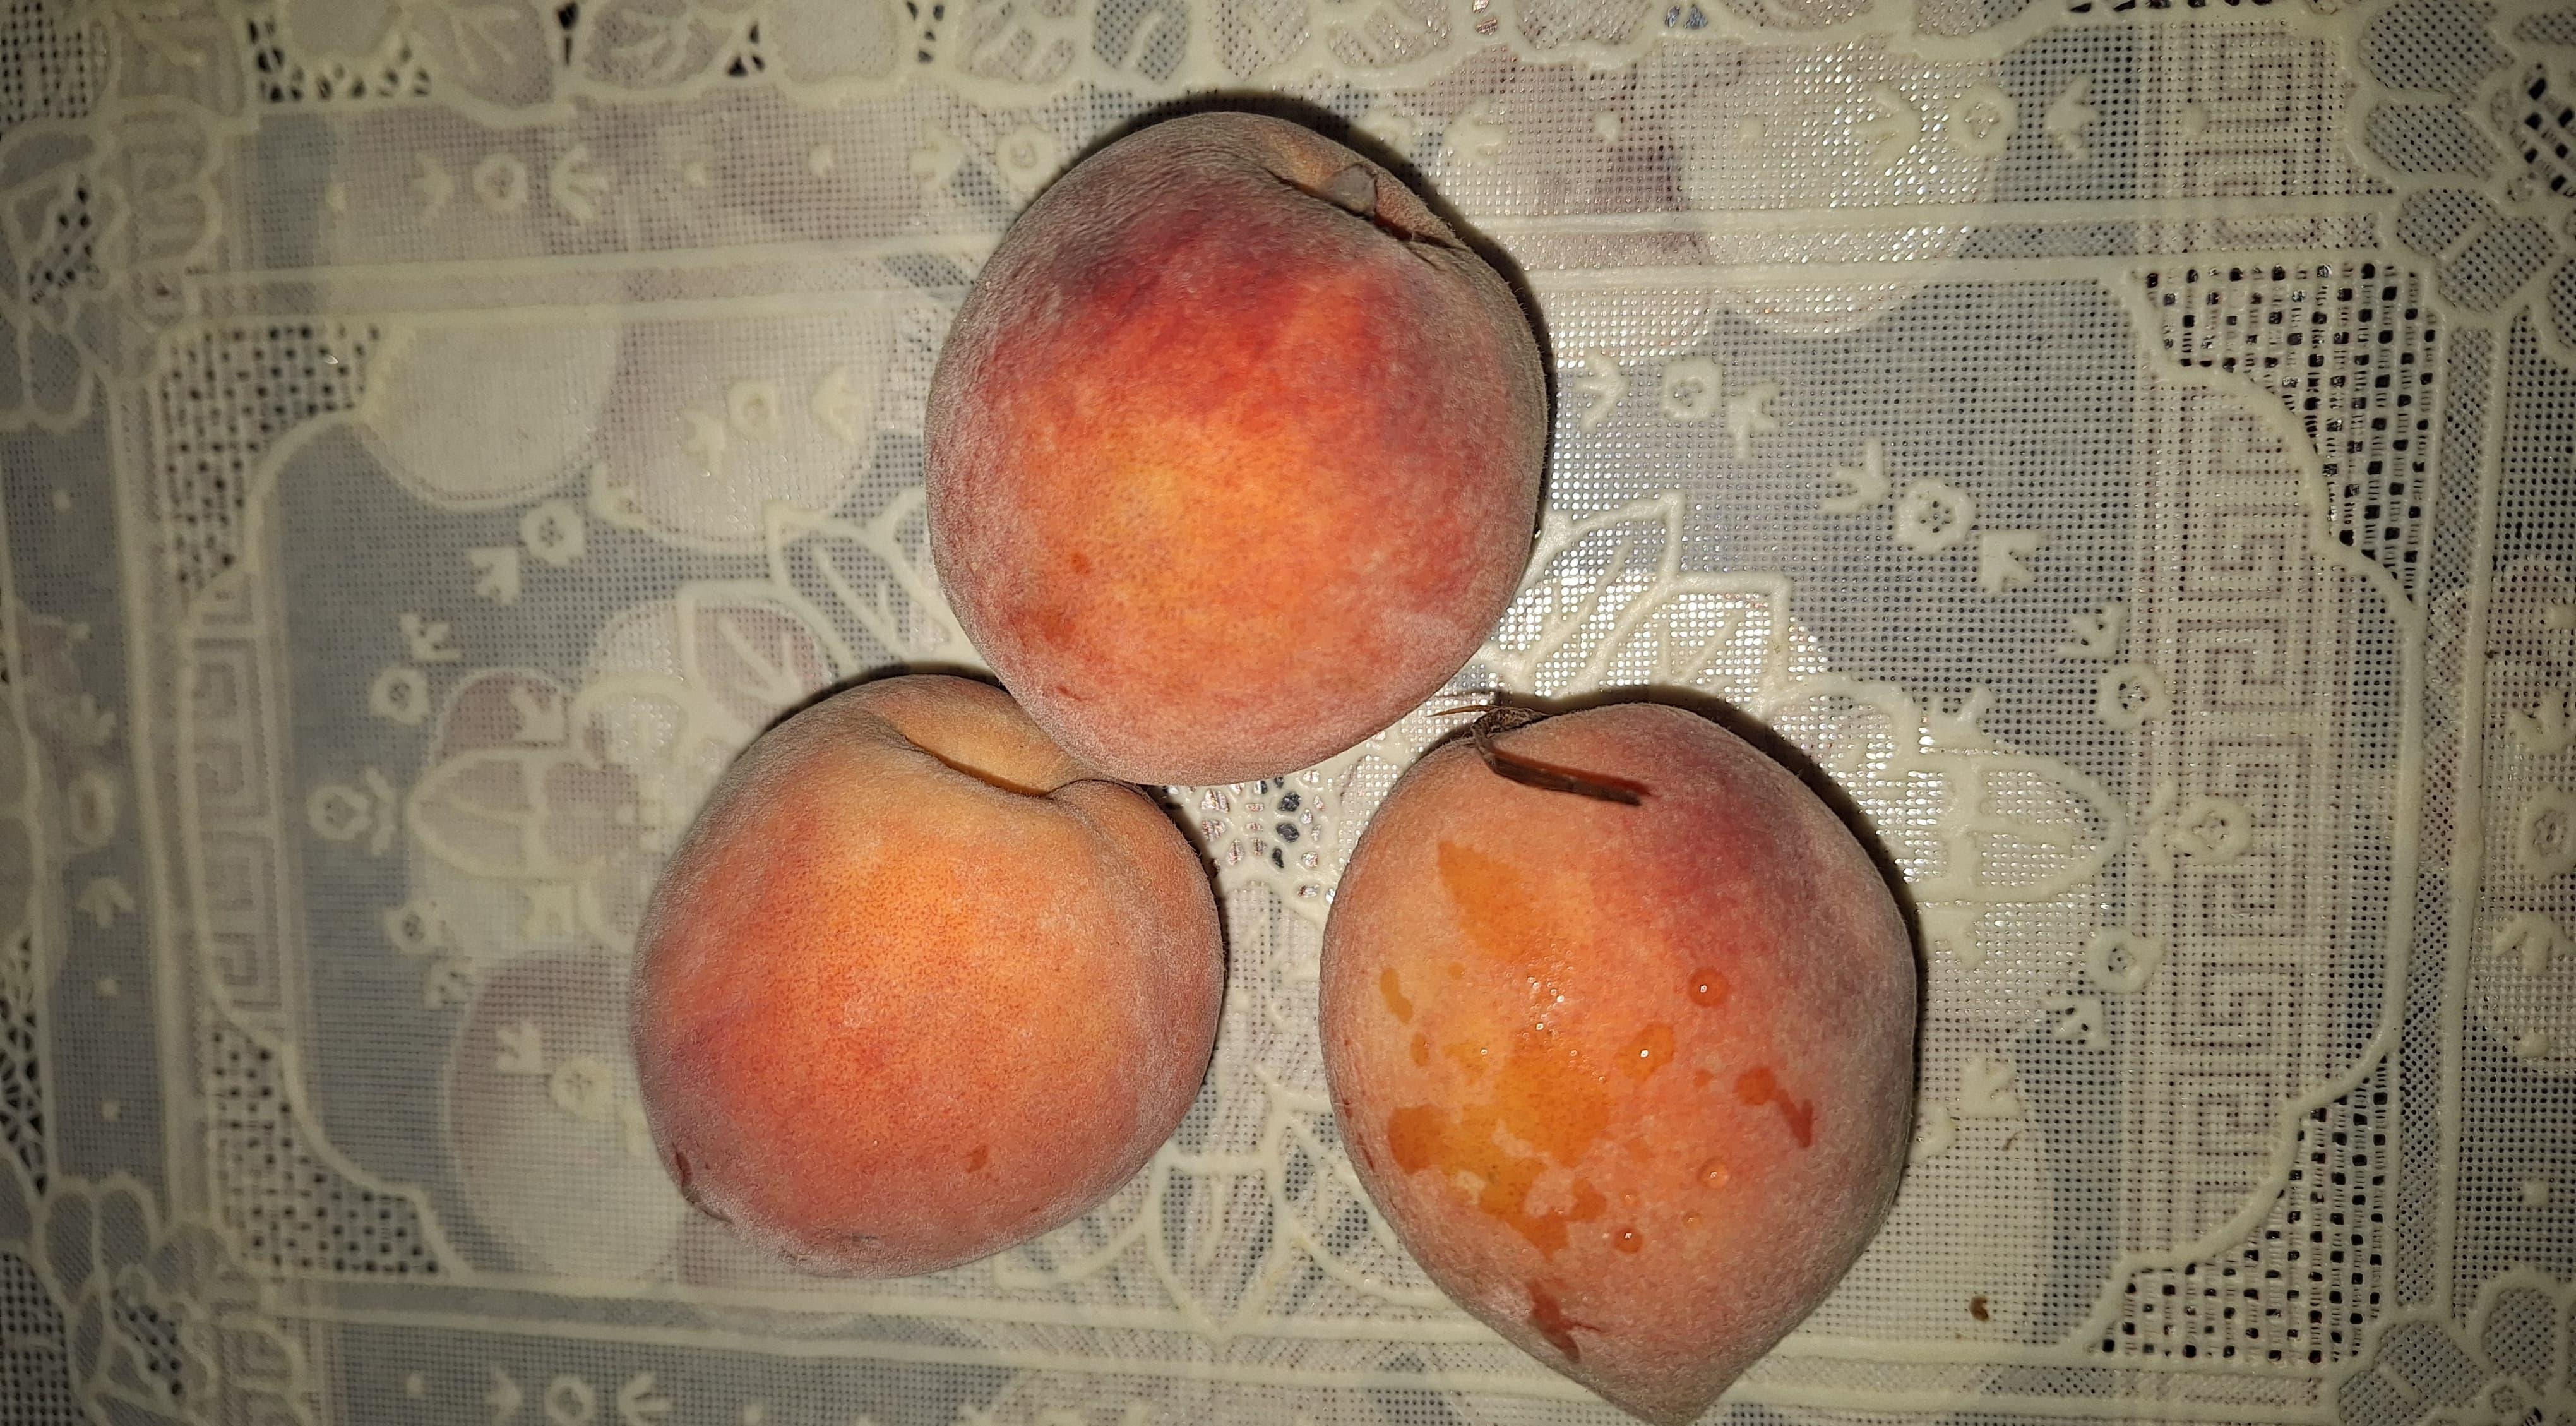non-mango: (1314, 690, 1923, 1421), (921, 100, 1556, 787), (626, 667, 1228, 1278)
